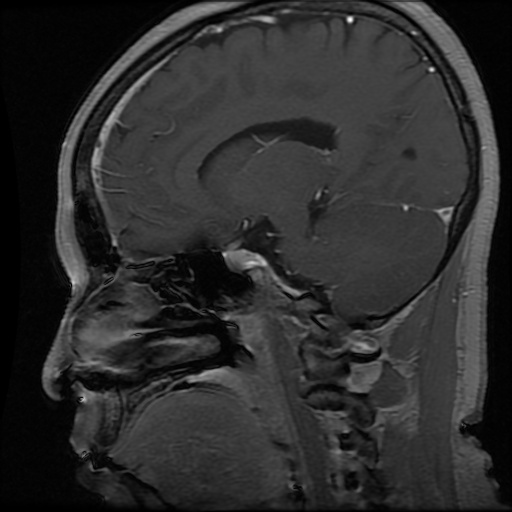pituitary: (222, 248, 268, 273)
